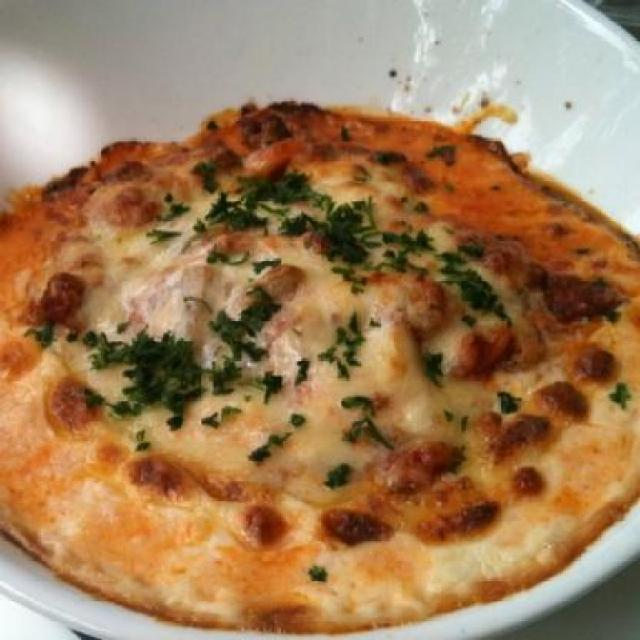Lasagna: (16, 114, 632, 612)
